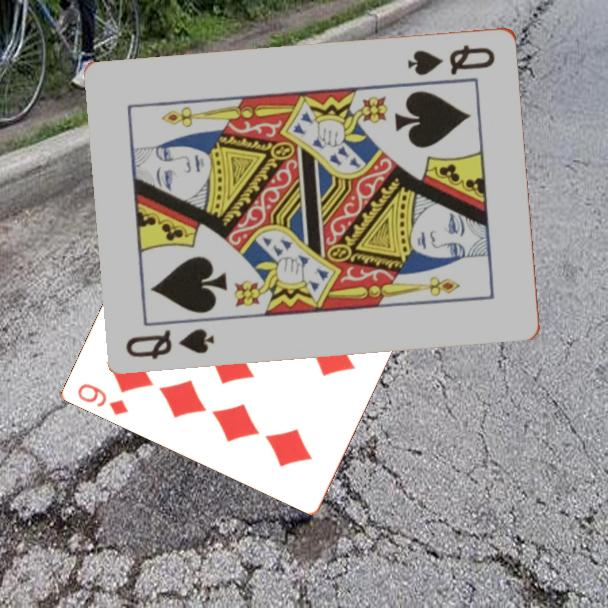d09: (74, 380, 132, 418)
s12: (123, 324, 218, 362), (404, 41, 499, 78)
